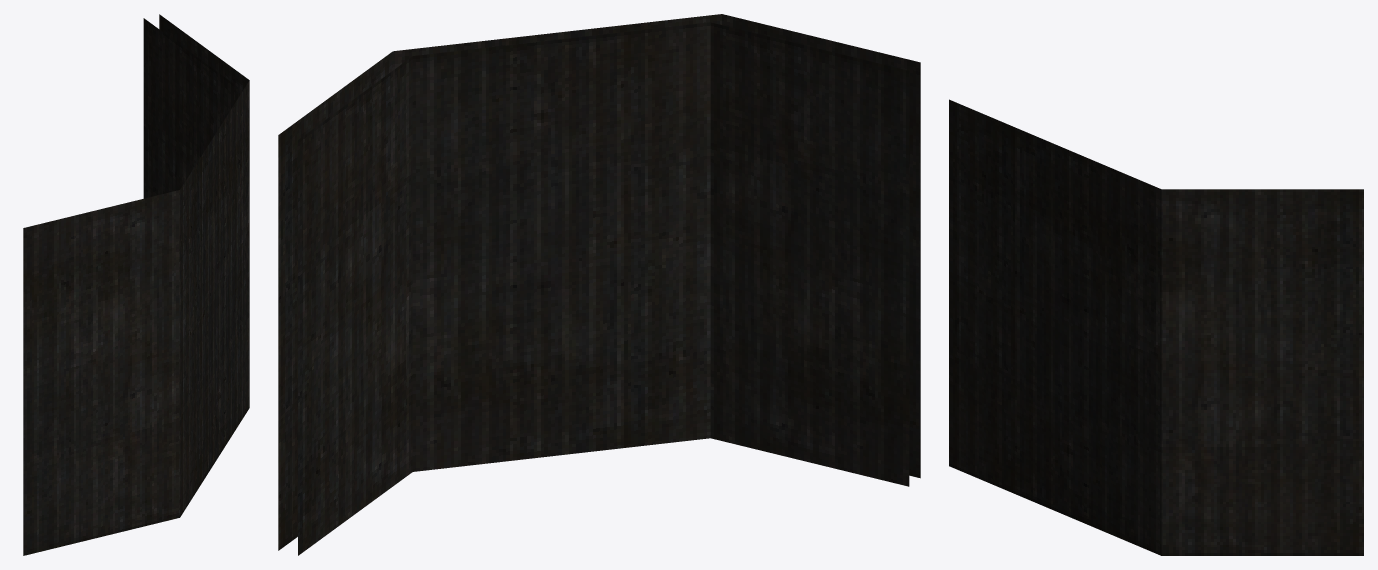
Rendered from wall_4_b.glb.
3 views of the same model, side by side, from view 1: azimuth 30°, elevation 25°; view 2: azimuth 150°, elevation 25°; view 3: azimuth 270°, elevation 25° (orthographic). The views are drawn at different scales.
Visible parts, largest first — view 1: wall_4_b; view 2: wall_4_b; view 3: wall_4_b.
Boxes of the visible parts, bbox=[...] form: wall_4_b: bbox=[23, 14, 249, 555]; wall_4_b: bbox=[278, 14, 920, 555]; wall_4_b: bbox=[949, 99, 1363, 555].
Size of the model in its own units: 2.05 by 2 by 2.05.
1 material, 1 textured.
